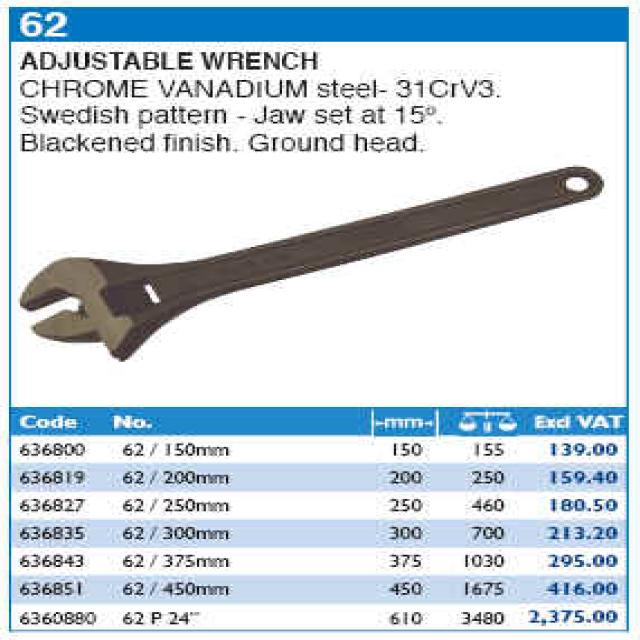wrench: (0, 157, 640, 380)
